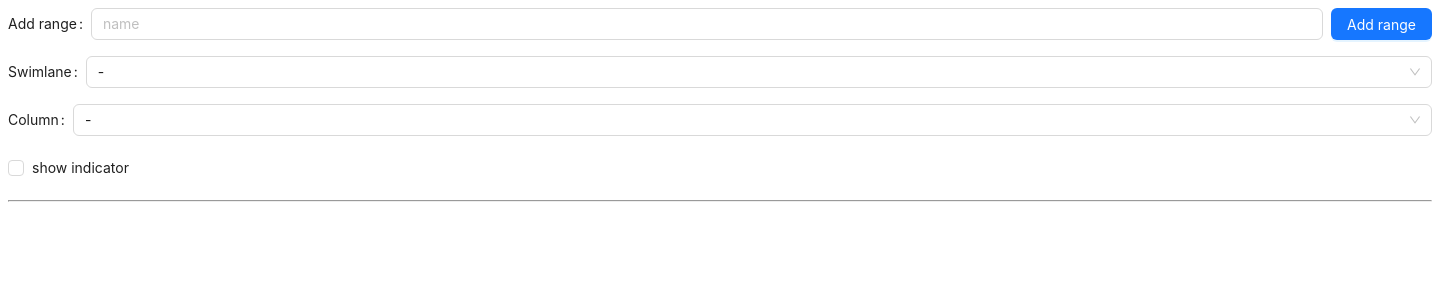
Test: RangeForm › Validation › should disable submit when swimlane is not selected
Type "My Range" into the field with id "WIP_inputRange" at (707, 24), box [91,8,1323,40]
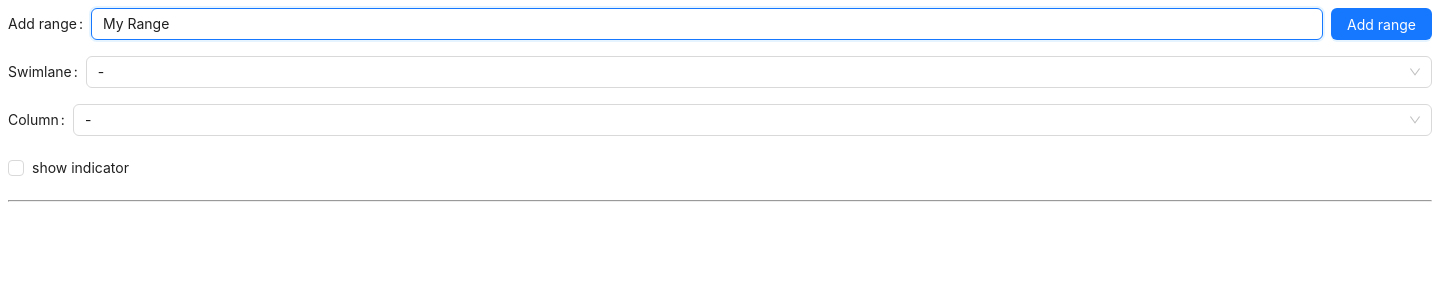
Click the element showing "-" at (753, 120), box [73,104,1432,136]
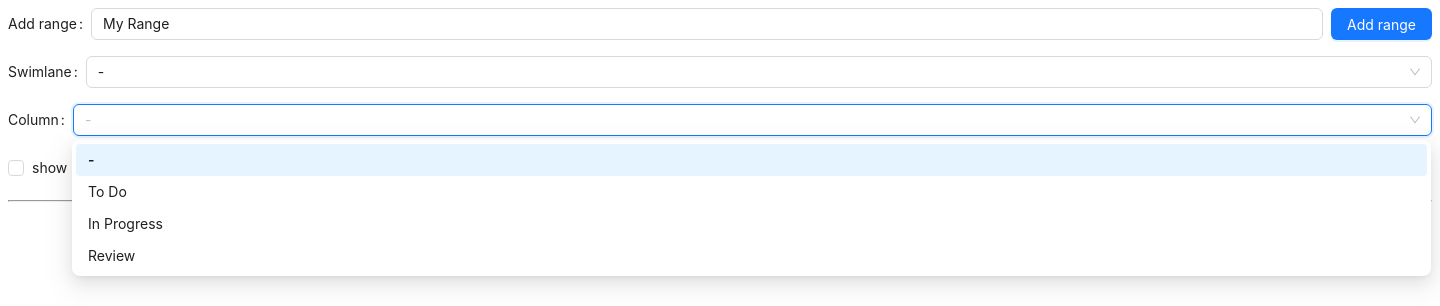
Now the element showing "- To Do In Progress Review" is shown, box [72,140,1431,276]
Click the text "In Progress" at (126, 224), box [88,215,163,232]
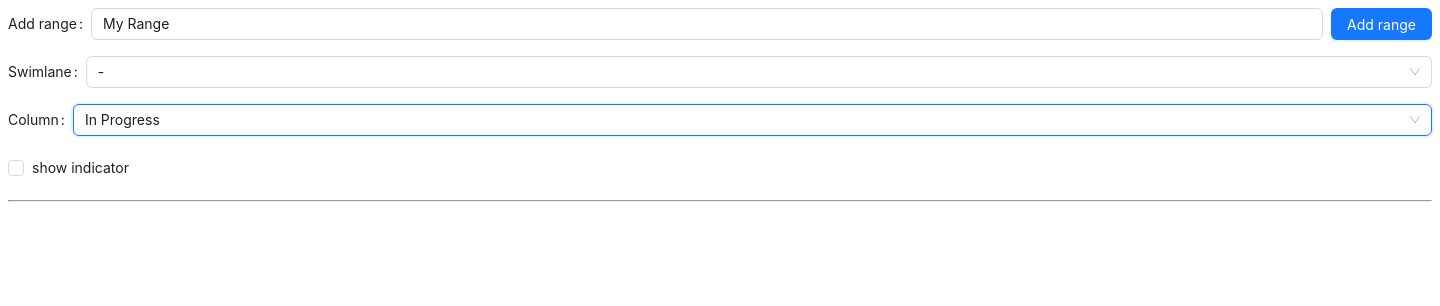
Click the button with id "WIP_buttonRange" at (1382, 24), box [1331,8,1432,40]
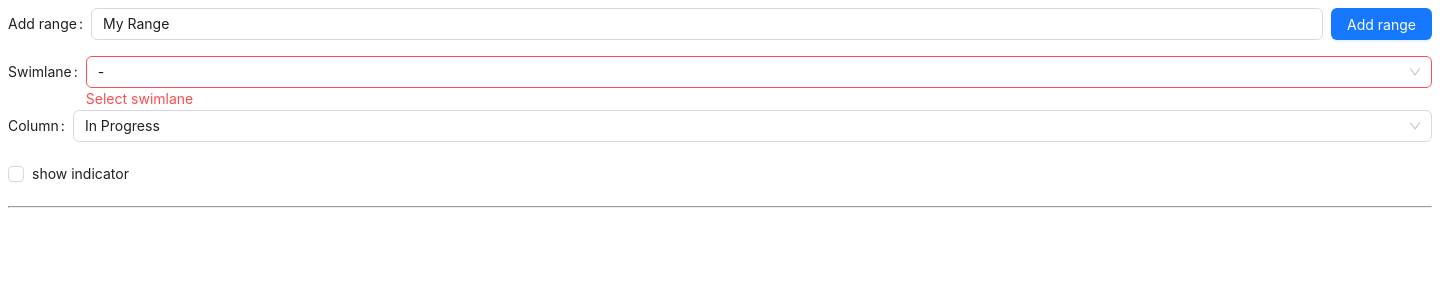
Now the text "Select swimlane" is shown, box [86,90,193,107]
